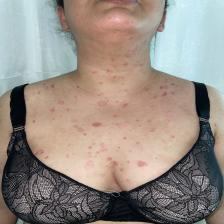Psoriasis vulgaris: (34, 86, 184, 156), (80, 158, 150, 178)
